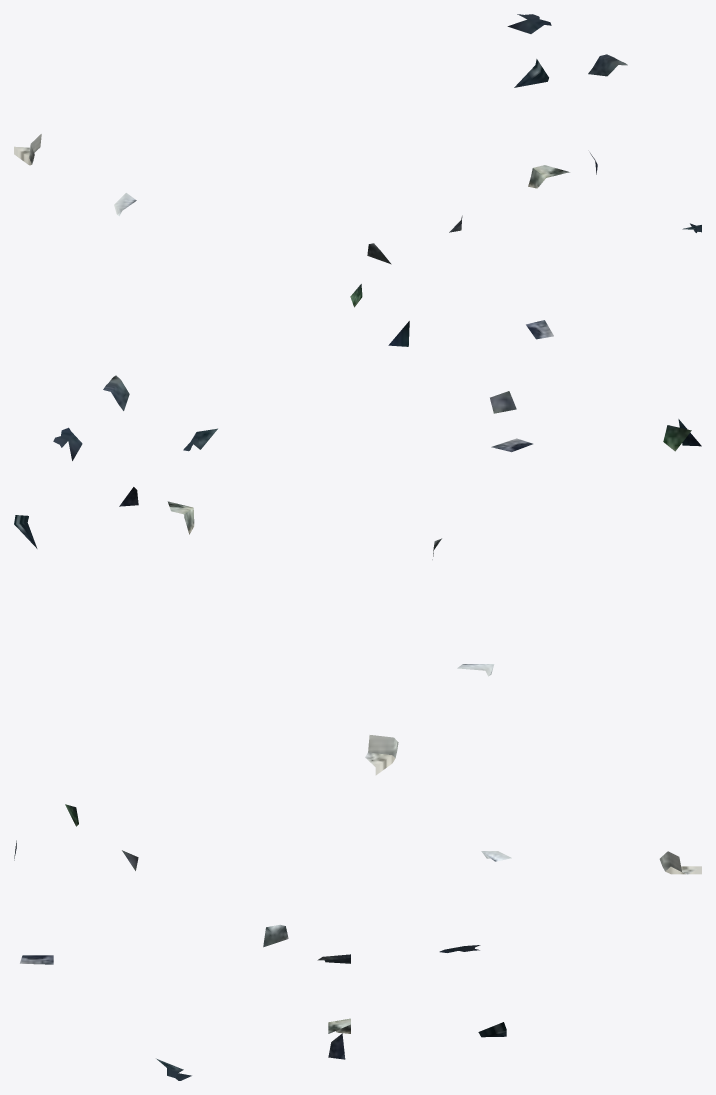
3 views of the same model, one above another, from view 1: azimuth 30°, elevation 25°; view 2: azimuth 150°, elevation 25°; view 3: azimuth 270°, elevation 25° (orthographic). The views are drawn at different scales.
Parts seen in each view (by area): view 1: 30436272704370426410_1; view 2: 30436272704370426410_1; view 3: 30436272704370426410_1.
Part boxes in pixels (x1,y1,x2,y2): 30436272704370426410_1: [14, 14, 701, 346]; 30436272704370426410_1: [14, 375, 701, 775]; 30436272704370426410_1: [14, 804, 701, 1080].
Bounding box in the file's own units: 27.32 × 7.56 × 37.48.
1 material, 1 textured.
